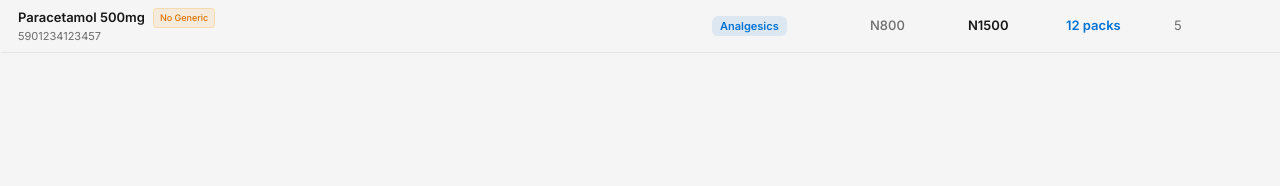
Test: Catalog row context menu › shows the denial reason inline, not only in a title attribute
Right-click the button at (81, 17), box top-left (0, 0), bottom-right (1279, 53)
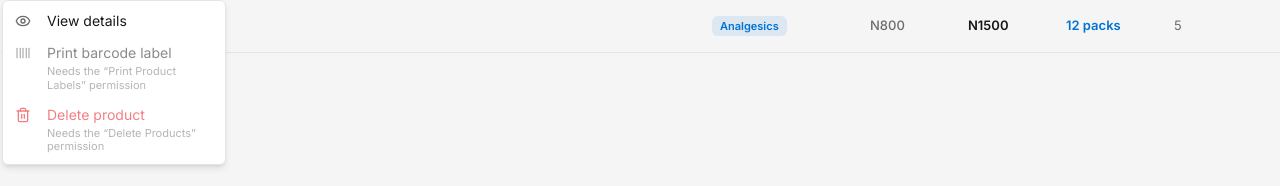
Now the text "Needs the “Print Product Labels” permission" is shown, box top-left (47, 64), bottom-right (176, 92)
Now the text "Needs the “Delete Products” permission" is shown, box top-left (47, 126), bottom-right (213, 154)
